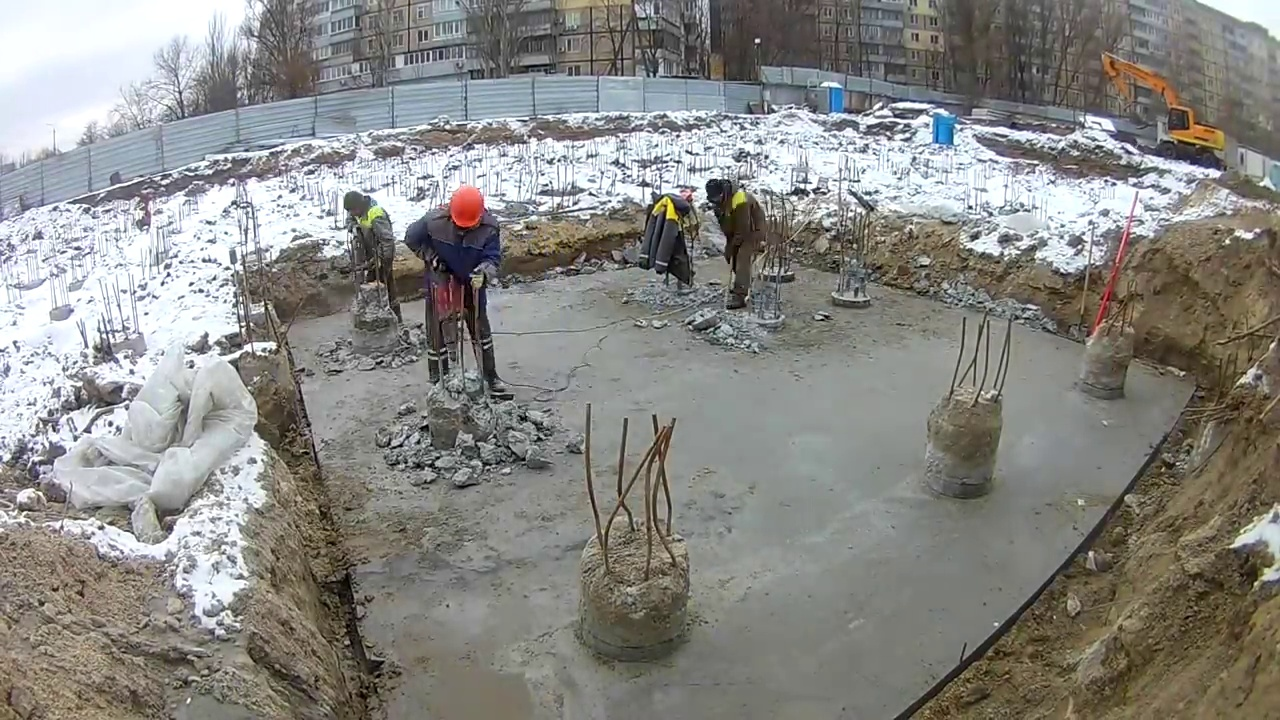helmet: (450, 187, 485, 230)
helmet-off: (705, 178, 738, 208), (344, 191, 372, 220)
helmet-on: (438, 186, 487, 241)
person: (405, 182, 498, 389), (343, 190, 404, 327), (704, 178, 766, 312)
